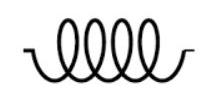inductor: (26, 15, 190, 85)
